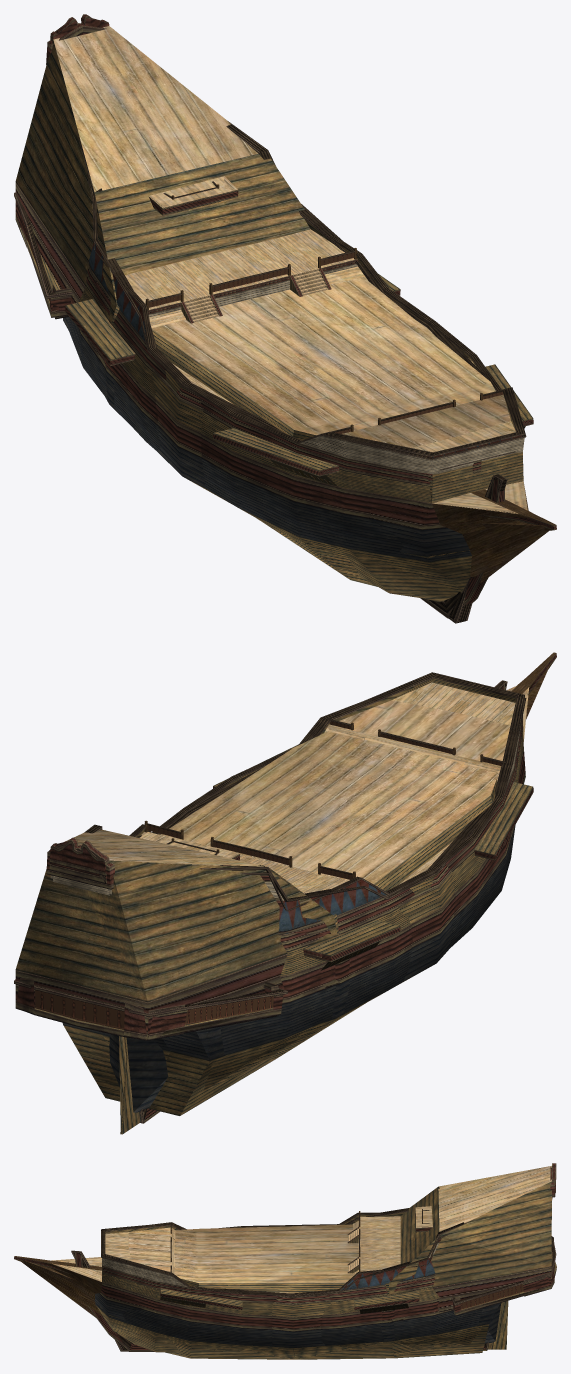
The model's file is pir_m_shp_brig_war.fbx.
The picture shows the model from 3 angles, top to bottom: view 1: azimuth 30°, elevation 25°; view 2: azimuth 150°, elevation 25°; view 3: azimuth 270°, elevation 25°; orthographic projection. The views are drawn at different scales.
Parts seen in each view (by area): view 1: deck.003, cabin_door_wall4, polySurface155, hullB, ship_deck, stripeA_hull_lower, bottom_hull_dark, main_rail1, hull.001, ship_deck_deck1, main_rail, main_hull (+20 smaller); view 2: deck.003, polySurface155, polySurface169, hullB, ship_deck_deck1, bottom_light, custom.003, main_rail1, stripeA_hull_lower, hullB.002, main_rail, ship_deck_deck (+24 smaller); view 3: deck.003, polySurface156, hullB, bottom_light, stripeA_hull_lower, ship_deck, bottom_hull_dark, hull.001, main_hull, ship_deck_deck1, cabin_door_wall4, custom.003 (+28 smaller).
Boxes of the visible parts, bbox=[...] form: deck.003: bbox=[53, 26, 495, 435]; cabin_door_wall4: bbox=[94, 154, 310, 304]; polySurface155: bbox=[15, 40, 116, 323]; hullB: bbox=[67, 317, 471, 561]; ship_deck: bbox=[125, 229, 527, 512]; stripeA_hull_lower: bbox=[79, 300, 429, 518]; bottom_hull_dark: bbox=[240, 509, 471, 601]; main_rail1: bbox=[76, 121, 524, 457]; hull.001: bbox=[86, 267, 430, 486]; ship_deck_deck1: bbox=[342, 394, 510, 447]; main_rail: bbox=[87, 174, 526, 460]; main_hull: bbox=[79, 285, 431, 503]; deck.003: bbox=[64, 731, 499, 915]; polySurface155: bbox=[109, 860, 337, 1001]; polySurface169: bbox=[15, 862, 147, 1001]; hullB: bbox=[102, 825, 515, 1055]; ship_deck_deck1: bbox=[324, 700, 510, 781]; bottom_light: bbox=[63, 966, 431, 1115]; custom.003: bbox=[15, 945, 340, 1038]; main_rail1: bbox=[84, 672, 524, 901]; stripeA_hull_lower: bbox=[280, 747, 523, 1004]; hullB.002: bbox=[62, 919, 453, 1060]; main_rail: bbox=[129, 698, 526, 911]; ship_deck_deck: bbox=[327, 682, 515, 772]; deck.003: bbox=[174, 1166, 551, 1283]; polySurface156: bbox=[388, 1181, 551, 1294]; hullB: bbox=[95, 1302, 500, 1346]; bottom_light: bbox=[138, 1324, 489, 1359]; stripeA_hull_lower: bbox=[103, 1282, 453, 1329]; ship_deck: bbox=[52, 1216, 400, 1295]; bottom_hull_dark: bbox=[96, 1305, 483, 1352]; hull.001: bbox=[103, 1267, 435, 1303]; main_hull: bbox=[102, 1273, 439, 1315]; ship_deck_deck1: bbox=[128, 1227, 174, 1273]; cabin_door_wall4: bbox=[389, 1187, 439, 1282]; custom.003: bbox=[391, 1267, 551, 1322].
Size of the model in its own units: 11045 by 11884 by 31574.
Materials: 2 (2 with a texture image).
